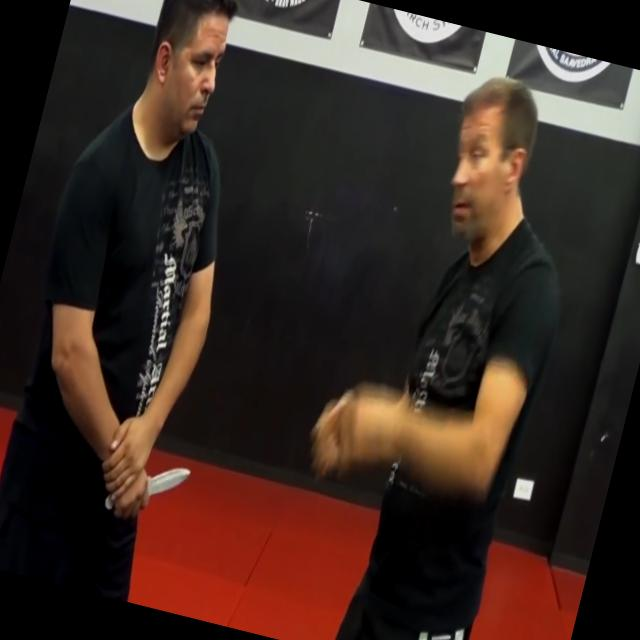knife: (96, 438, 199, 536)
